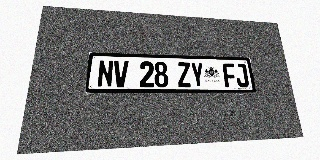2: (140, 61, 154, 87)
8: (154, 61, 168, 87)
F: (222, 63, 237, 87)
J: (234, 63, 249, 87)
N: (97, 60, 114, 87)
V: (113, 60, 129, 87)
Y: (190, 62, 205, 87)
Z: (177, 62, 191, 87)
